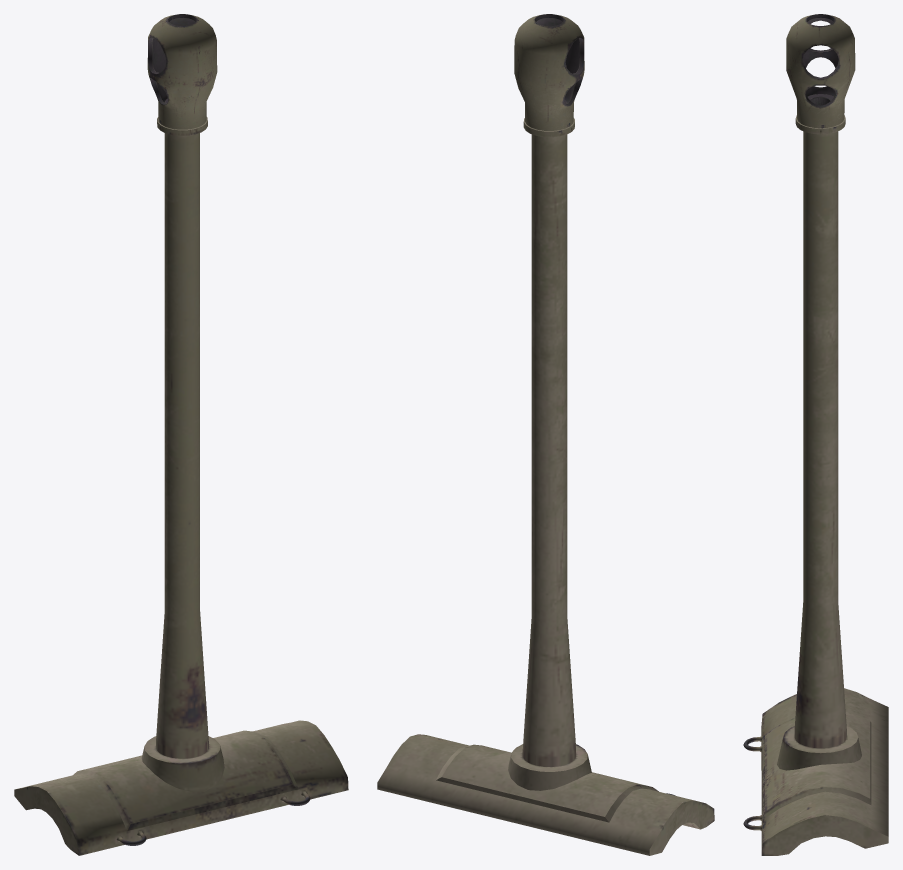
Rendered from Gun_01.glb.
The picture shows the model from 3 angles, left to right: view 1: azimuth 30°, elevation 25°; view 2: azimuth 150°, elevation 25°; view 3: azimuth 270°, elevation 25°; orthographic projection. The views are drawn at different scales.
Visible parts, largest first — view 1: set_0_group_0; view 2: set_0_group_0; view 3: set_0_group_0.
Boxes of the visible parts, left/top/right/bottom form: set_0_group_0: left=14, top=14, right=348, bottom=855; set_0_group_0: left=377, top=14, right=714, bottom=855; set_0_group_0: left=743, top=14, right=888, bottom=855.
Size of the model in its own units: 1.18 by 3.27 by 0.5578.
1 material, 1 textured.
